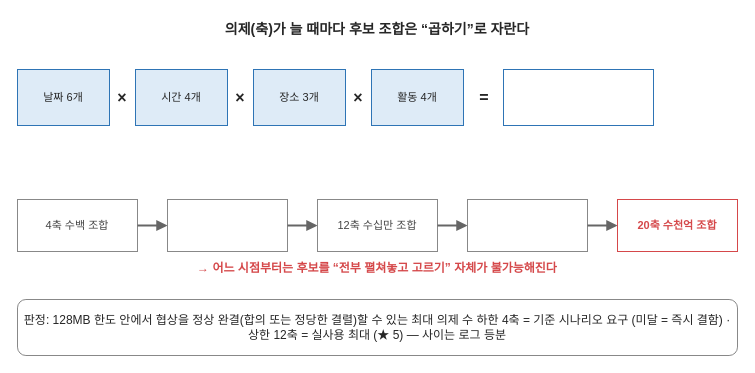
The diagram is 755 pixels wide and 373 high, and some of its shapes have lost their labels. Here are the shapes that lost their labels. From the top down, the box of each, then its label:
(502, 68, 654, 126): 조합 288개 (4축 예시)
(166, 198, 288, 252): 8축 수만 조합
(466, 198, 588, 252): 16축 수십억 조합
